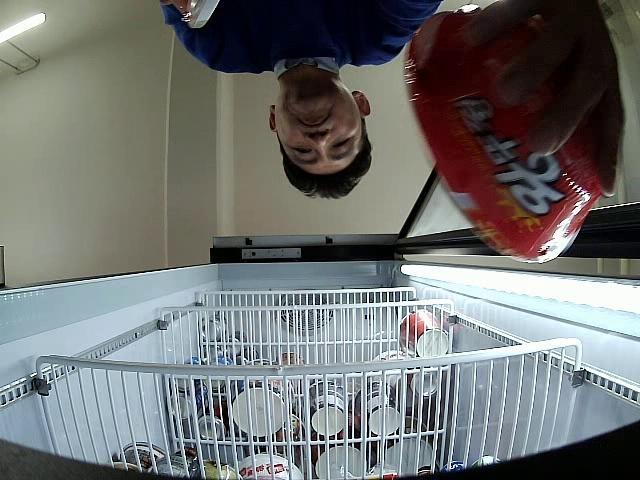10_wangTtukkeong: (404, 11, 603, 262)
